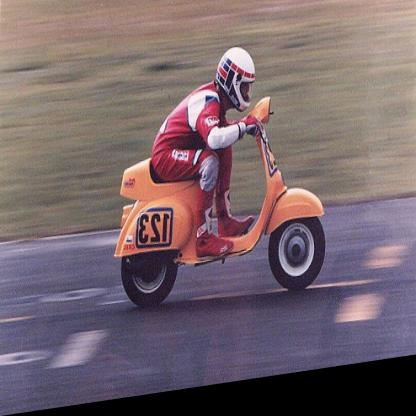With Helmet: (213, 45, 261, 125)
